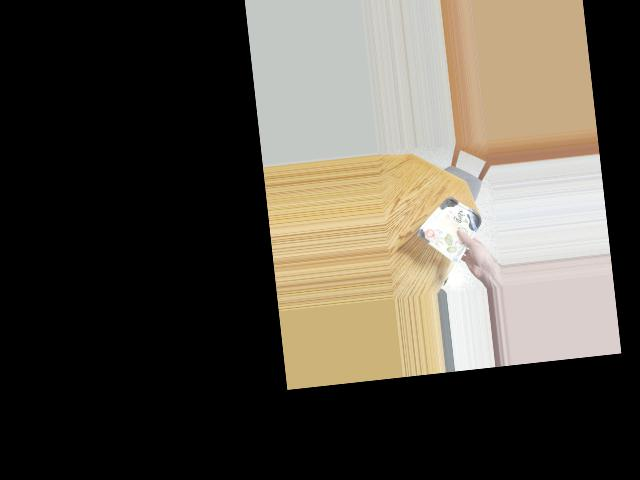cheese: (420, 202, 480, 246)
